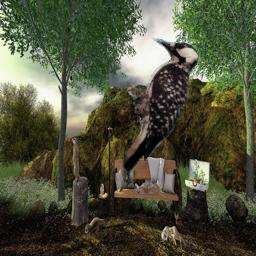Woodpecker: (118, 37, 209, 182)
